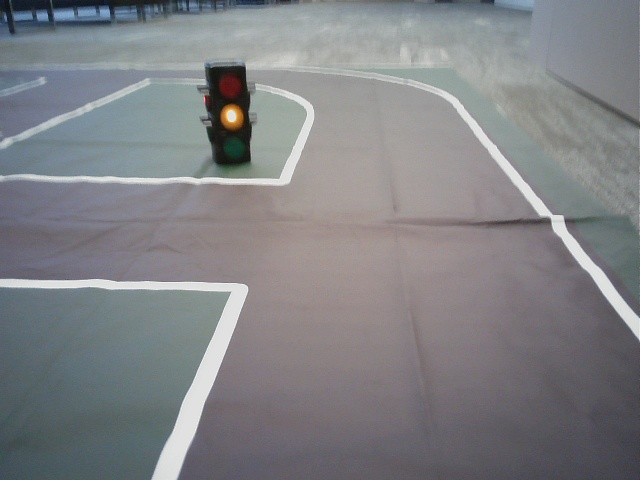yellow: (210, 72, 248, 160)
